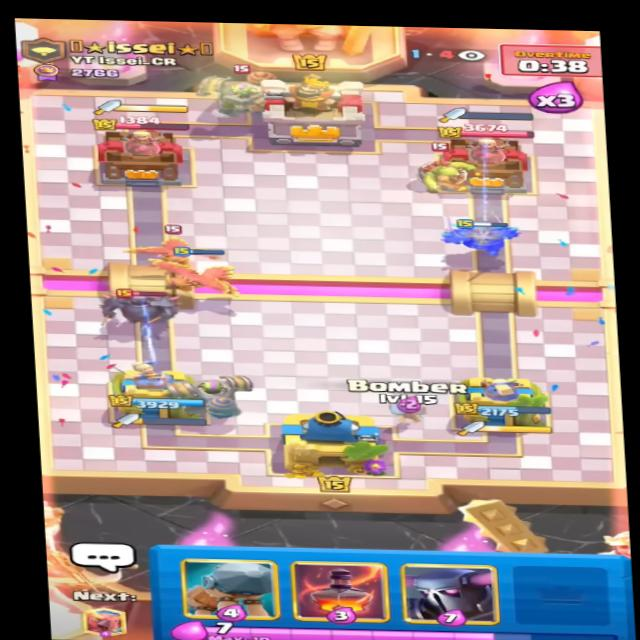goblin-demolisher: (407, 140, 489, 192)
goblin-machine: (189, 58, 301, 119)
pekka: (99, 284, 192, 329)
phoenix: (120, 227, 239, 268)
